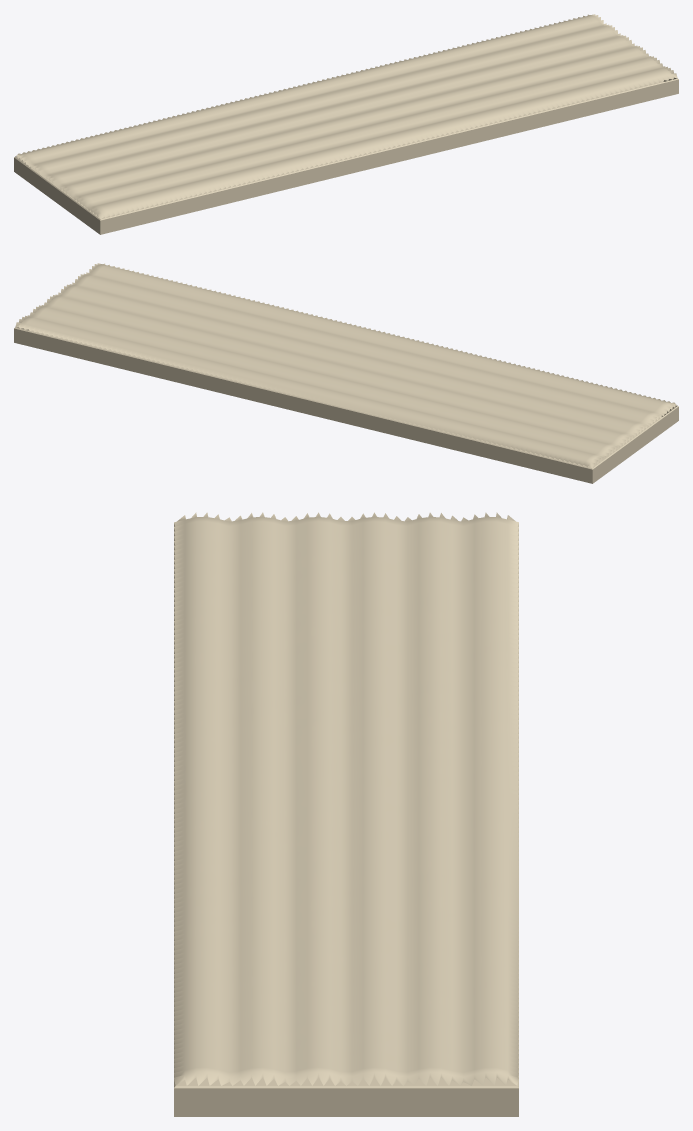
The model's file is mahsulot.glb.
The picture shows the model from 3 angles, top to bottom: view 1: azimuth 30°, elevation 25°; view 2: azimuth 150°, elevation 25°; view 3: azimuth 270°, elevation 25°; orthographic projection. The views are drawn at different scales.
Visible parts, largest first — view 1: mahsulot; view 2: mahsulot; view 3: mahsulot.
Part boxes in pixels (left/top/right/bottom): mahsulot: left=14, top=14, right=678, bottom=234; mahsulot: left=14, top=263, right=678, bottom=483; mahsulot: left=174, top=512, right=518, bottom=1116.
Size of the model in its own units: 1.2 by 0.0396 by 0.31.
